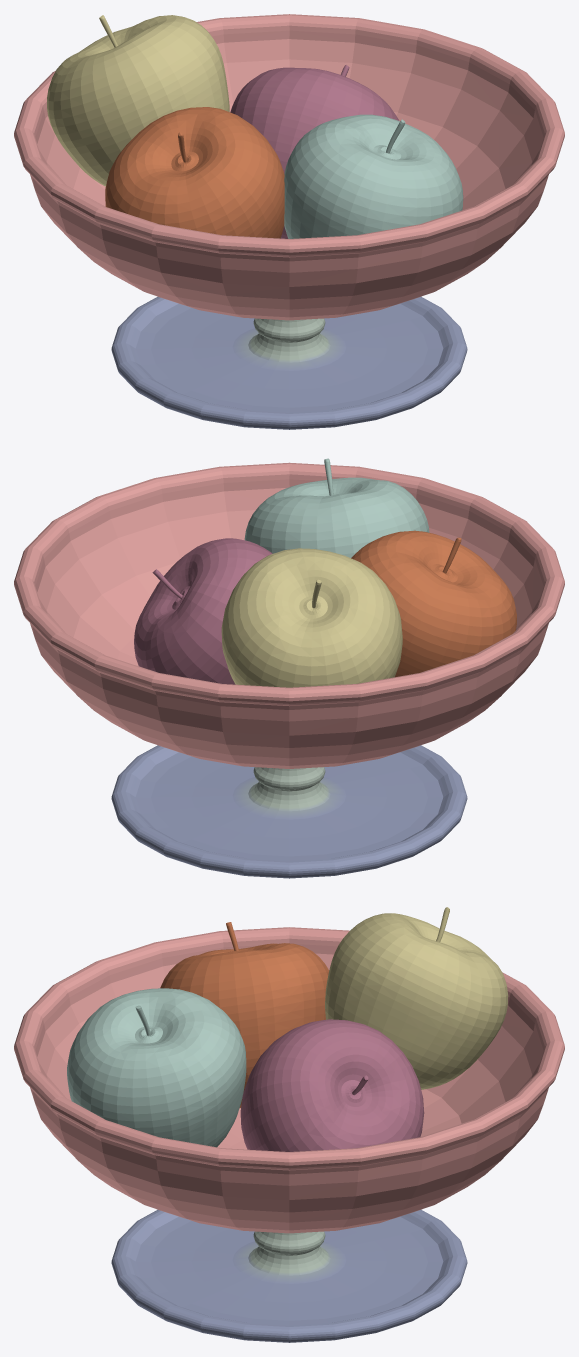
The picture shows the model from 3 angles, top to bottom: view 1: azimuth 30°, elevation 25°; view 2: azimuth 150°, elevation 25°; view 3: azimuth 270°, elevation 25°; orthographic projection.
Visible parts, largest first — view 1: world; view 2: world; view 3: world.
Part boxes in pixels (bbox=[...]): world: bbox=[14, 14, 564, 429]; world: bbox=[14, 458, 564, 878]; world: bbox=[14, 907, 564, 1342].
Size of the model in its own units: 0.9999 by 0.6225 by 1.
